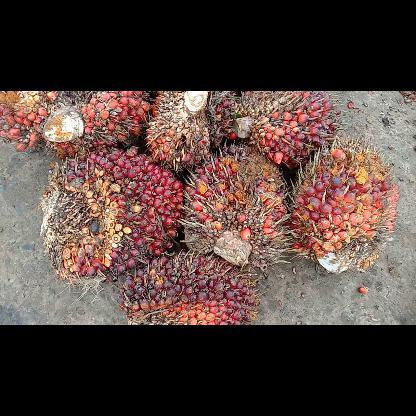TBS masak: (43, 151, 185, 282), (294, 137, 400, 273), (183, 143, 294, 269), (122, 253, 262, 323), (0, 90, 146, 154), (231, 92, 345, 170), (147, 92, 237, 168)
